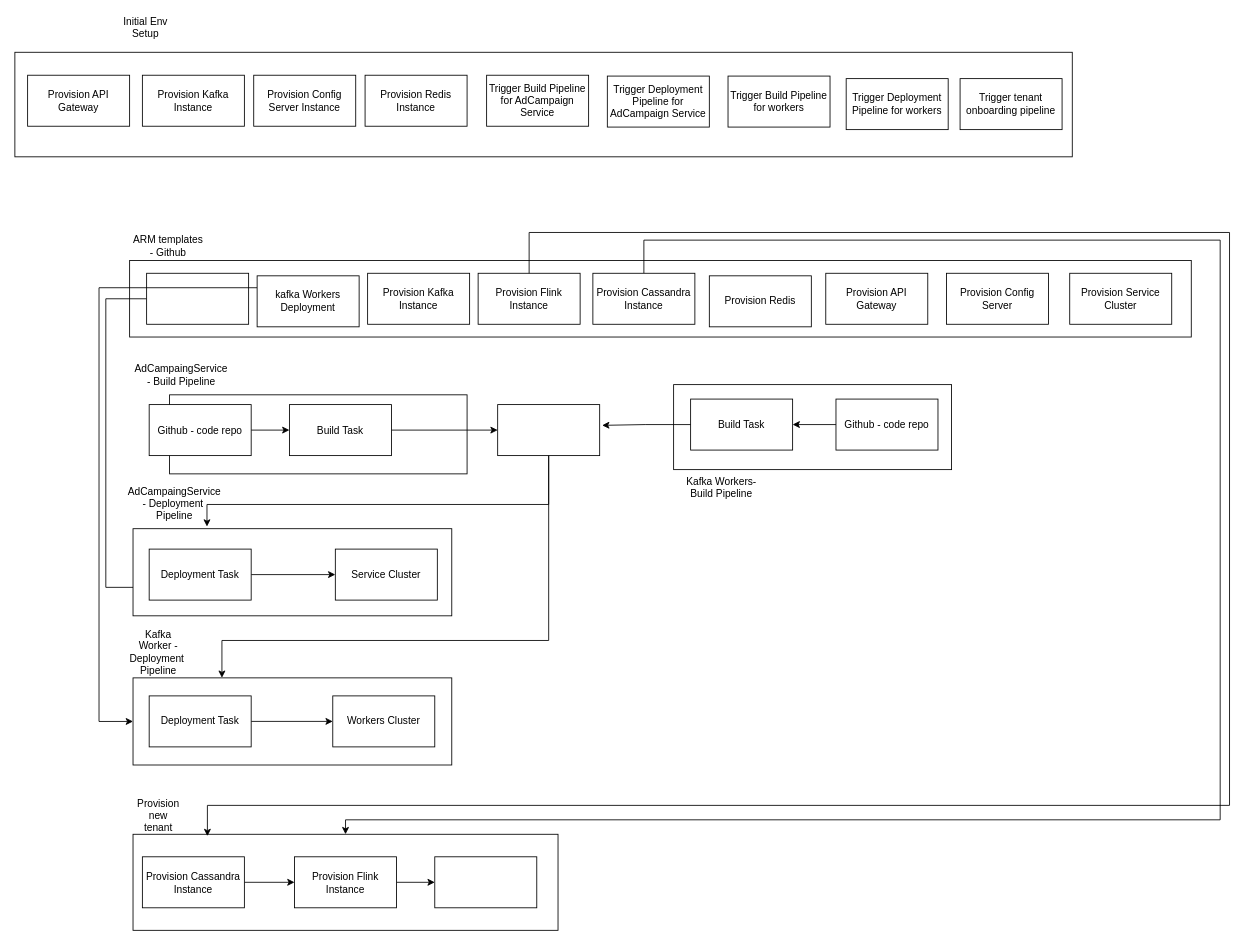
Image size: 1251x945. Some labels were removed from this diagram. The centre of each missing label's shape, as x and y in pixels:
AdCampaignService Deployment: the point at 197,298
Artefactory: the point at 548,430
Update Config Server: the point at 485,882
